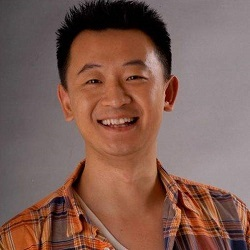unmask: (67, 27, 175, 158)
